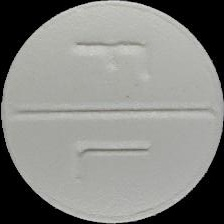49999-627: (0, 0, 224, 224)
